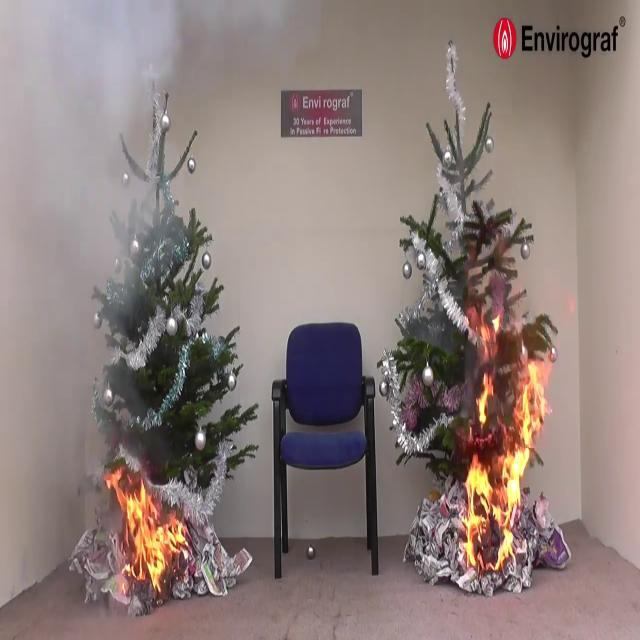Fire: (460, 354, 550, 570), (105, 464, 189, 590)
